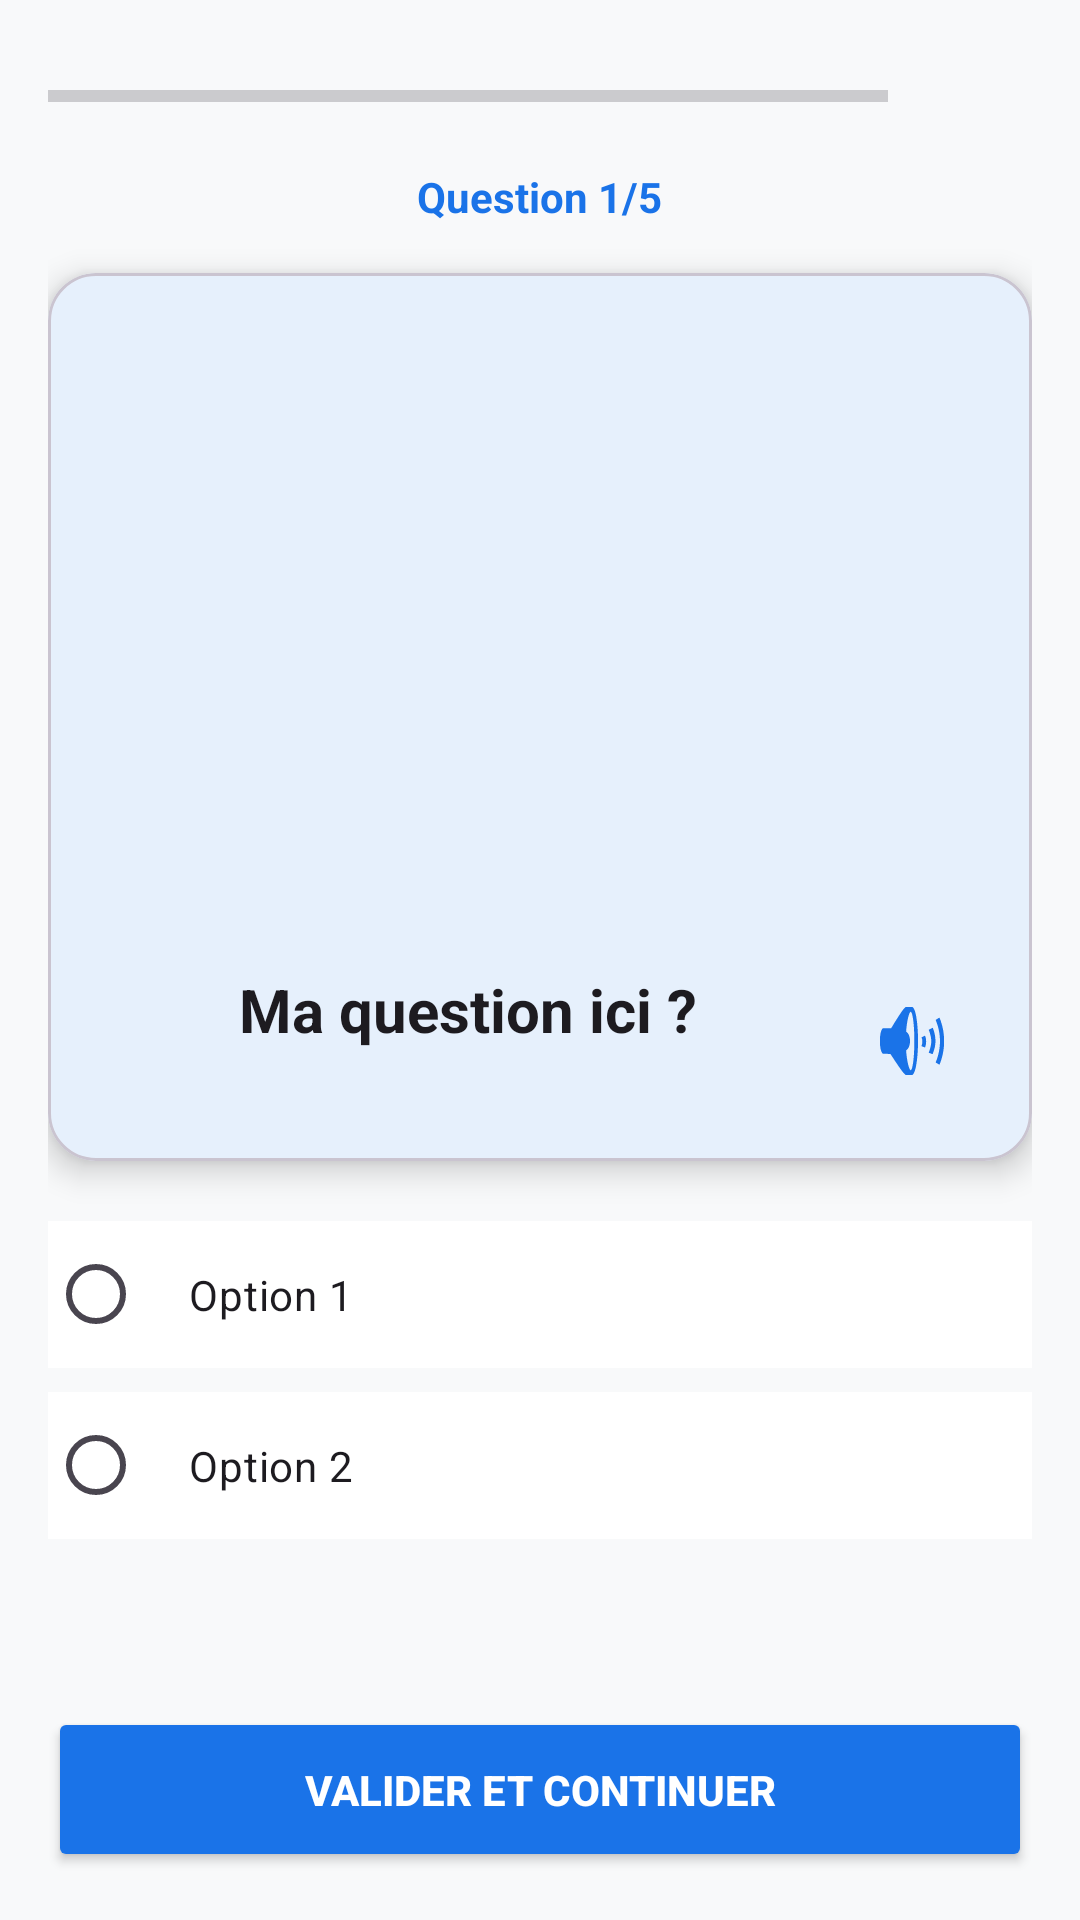

Screen size 1080x1920. Icon name, then its box in pixels as box(x1, y1, x2, y2):
Lire la question: box(880, 1007, 944, 1075)
